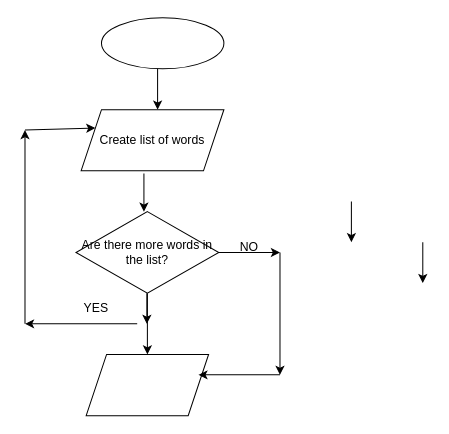
Some shapes in this 449 by 434 pixel diagram are drawn without their labels. The shapes that lost their labels are listed below. From the top down, each one's centre as x and y in pixels, then its label:
(x=162, y=43): START
(x=147, y=384): Print words and the length of the words; len(word)
